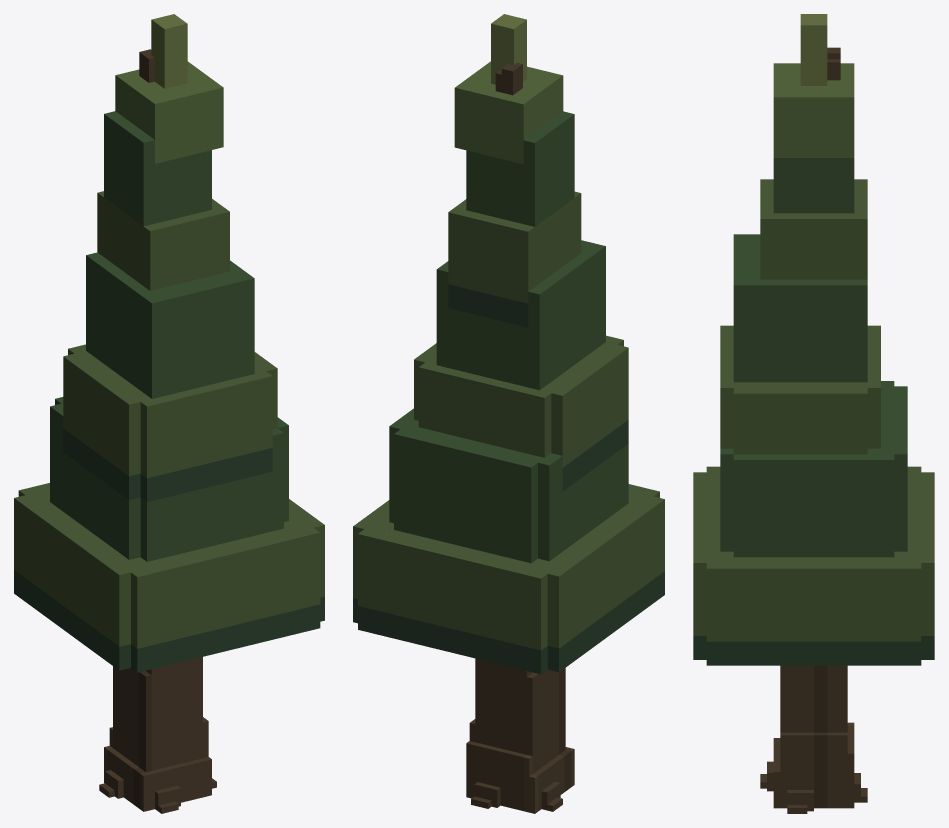
The model's file is pine_sapling.glb.
3 views of the same model, side by side, from view 1: azimuth 30°, elevation 25°; view 2: azimuth 150°, elevation 25°; view 3: azimuth 270°, elevation 25° (orthographic).
Visible parts, largest first — view 1: VoxelVisual; view 2: VoxelVisual; view 3: VoxelVisual.
Part boxes in pixels (box(x1,y1,x2,y2)): VoxelVisual: box(14, 14, 324, 813); VoxelVisual: box(353, 14, 664, 813); VoxelVisual: box(693, 14, 934, 813).
Size of what is drawn, in the model's own units: 2.25 by 8 by 2.25.
